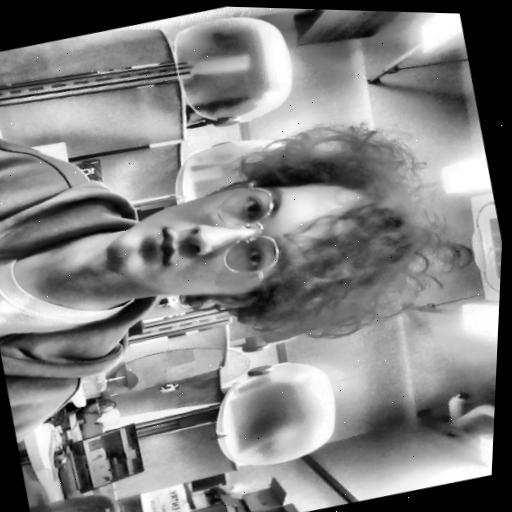Daifuku: (79, 106, 452, 388)
